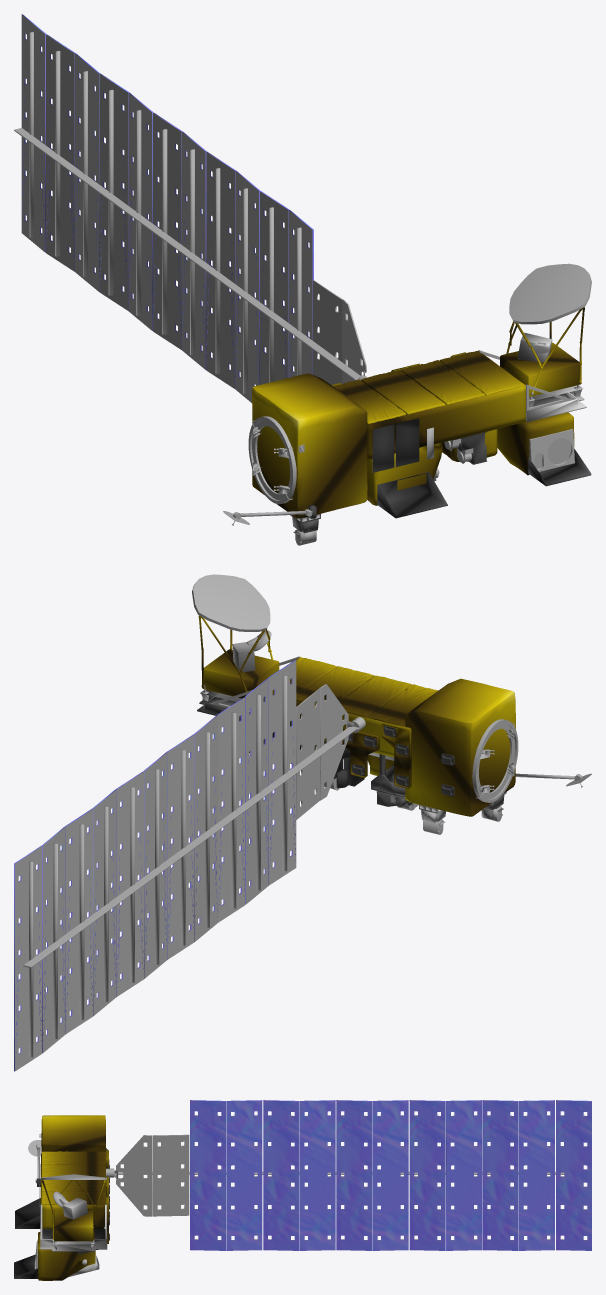
File: satellite.obj
3 views of the same model, one above another, from view 1: azimuth 30°, elevation 25°; view 2: azimuth 150°, elevation 25°; view 3: azimuth 270°, elevation 25° (orthographic). The views are drawn at different scales.
Parts seen in each view (by area): view 1: tex_01_Default_006, foil_gold_Default_002, foil_silver_Default_001, gold_2_Default_000, shiny_panel_Default_005; view 2: tex_01_Default_006, foil_gold_Default_002, shiny_panel_Default_005, gold_2_Default_000, foil_silver_Default_001; view 3: shiny_panel_Default_005, tex_01_Default_006, foil_gold_Default_002, gold_2_Default_000, foil_silver_Default_001.
Boxes of the visible parts, left/top/right/bottom form: tex_01_Default_006: left=14, top=15, right=591, bottom=545; foil_gold_Default_002: left=252, top=307, right=584, bottom=518; foil_silver_Default_001: left=290, top=332, right=591, bottom=535; gold_2_Default_000: left=333, top=351, right=524, bottom=423; shiny_panel_Default_005: left=21, top=14, right=313, bottom=388; tex_01_Default_006: left=15, top=574, right=591, bottom=1071; foil_gold_Default_002: left=198, top=615, right=515, bottom=816; shiny_panel_Default_005: left=14, top=660, right=295, bottom=1071; gold_2_Default_000: left=272, top=657, right=438, bottom=726; foil_silver_Default_001: left=197, top=642, right=506, bottom=822; shiny_panel_Default_005: left=190, top=1100, right=591, bottom=1250; tex_01_Default_006: left=28, top=1115, right=586, bottom=1269; foil_gold_Default_002: left=37, top=1115, right=108, bottom=1280; gold_2_Default_000: left=41, top=1151, right=105, bottom=1204; foil_silver_Default_001: left=14, top=1148, right=109, bottom=1278.
Bounding box in the file's own units: 9.4 × 5.08 × 17.78.
